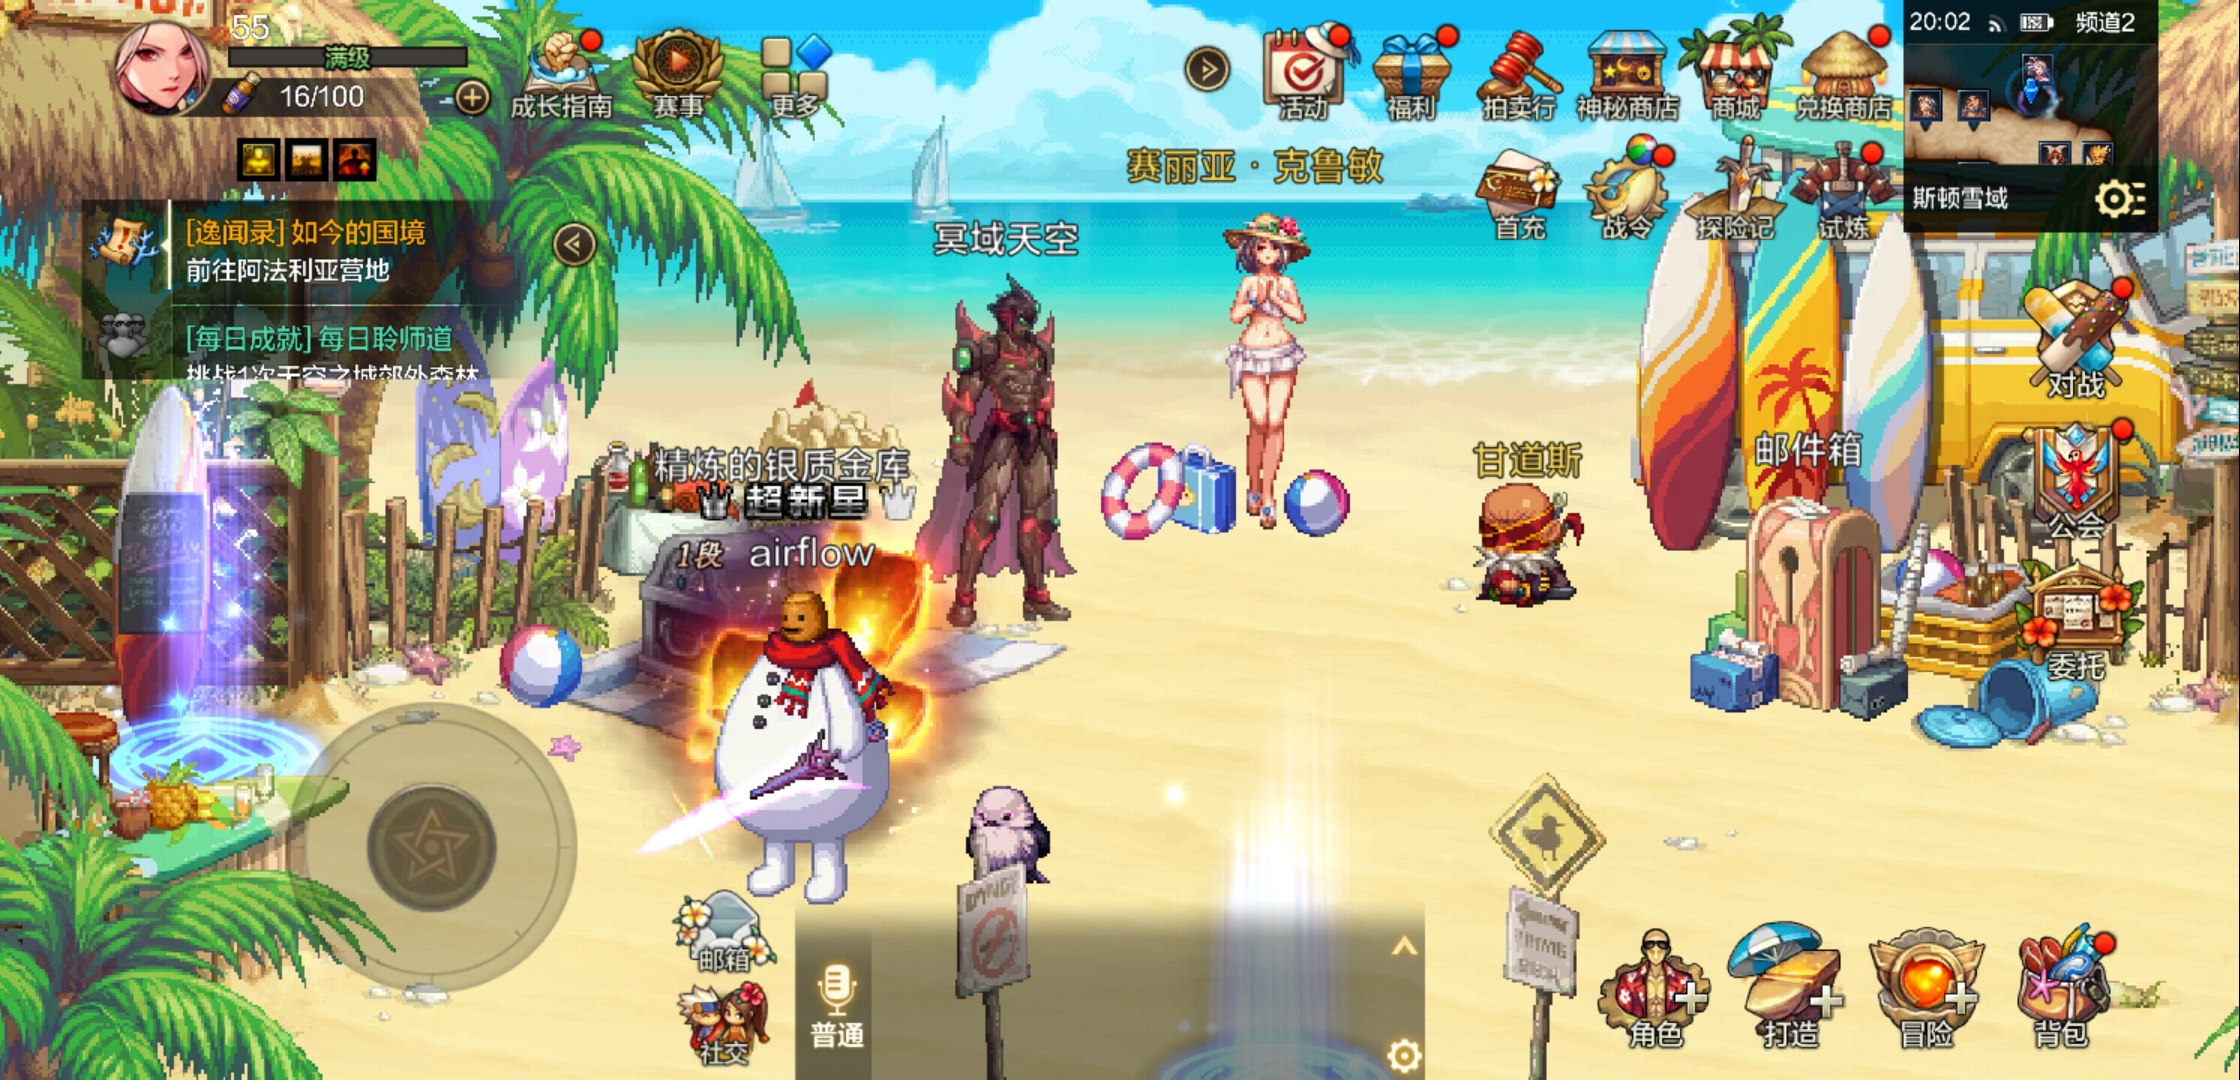direction_button: (709, 569, 890, 900), (364, 776, 501, 913)
